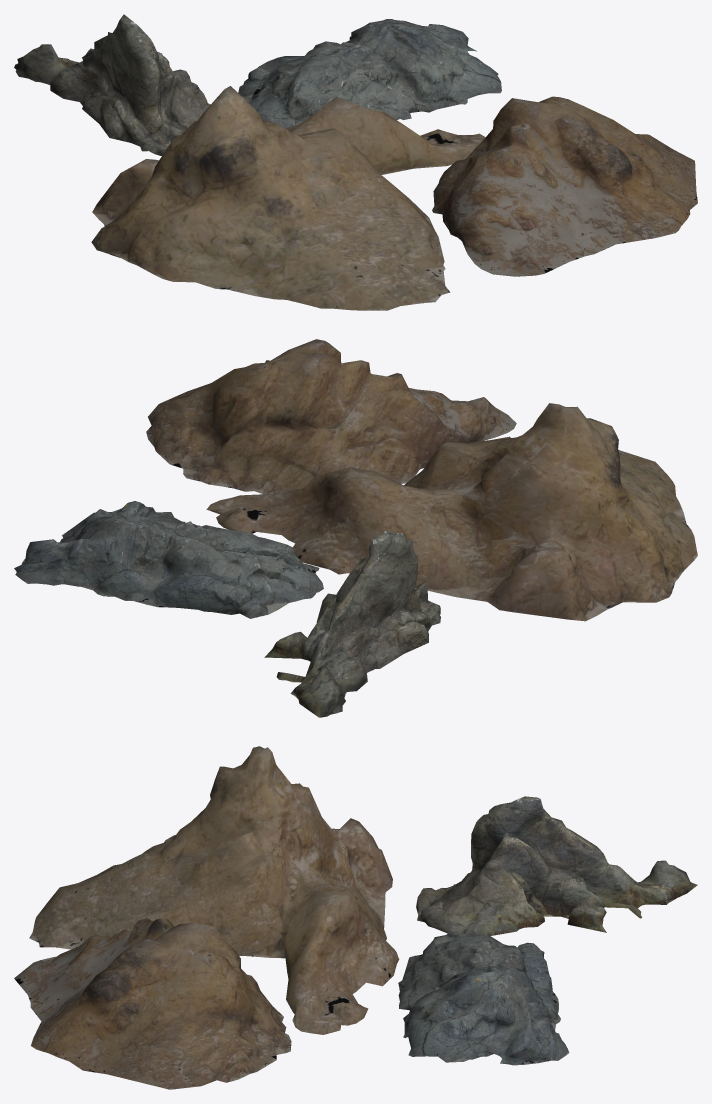
3 renders of one model, top to bottom at view 1: azimuth 30°, elevation 25°; view 2: azimuth 150°, elevation 25°; view 3: azimuth 270°, elevation 25°, orthographic. The views are drawn at different scales.
Visible parts, largest first — view 1: Object_2; view 2: Object_2; view 3: Object_2.
Part boxes in pixels (x1,y1,x2,y2): Object_2: [14, 14, 697, 310]; Object_2: [14, 339, 697, 717]; Object_2: [14, 746, 697, 1089].
Bounding box in the file's own units: 11.57 × 3.05 × 12.82.
Materials: 1 (1 with a texture image).
